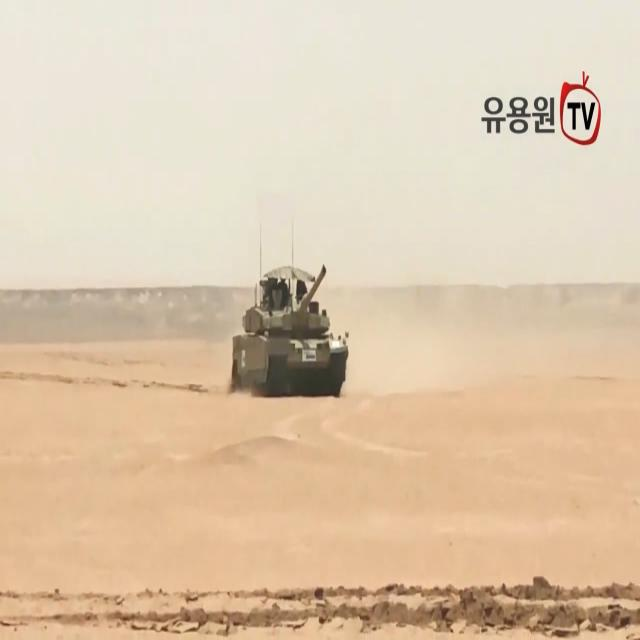korea tank: (228, 260, 349, 401)
